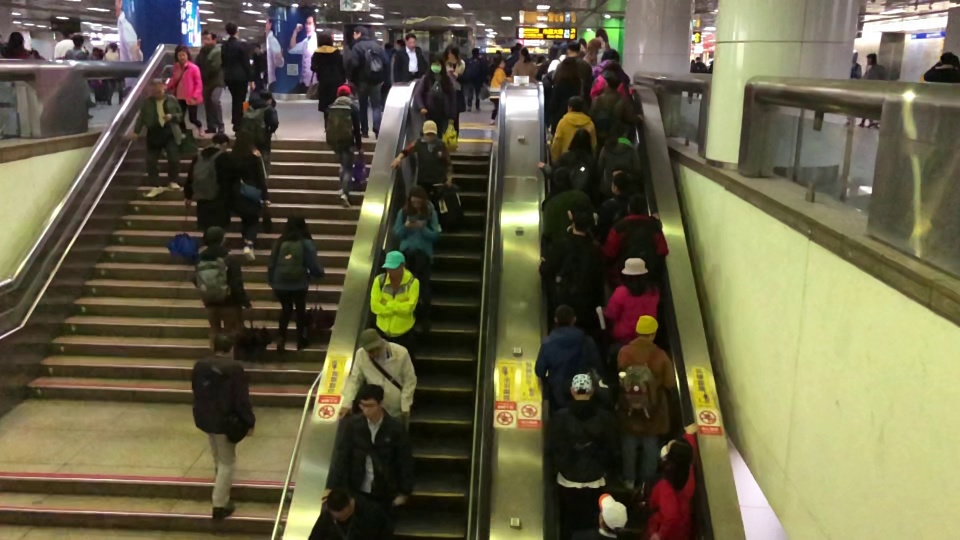person_head: (597, 492, 627, 532), (658, 435, 691, 470), (357, 382, 385, 420), (323, 485, 354, 517), (566, 372, 596, 402), (622, 256, 649, 289), (358, 327, 385, 358), (380, 249, 406, 281), (634, 313, 660, 340), (550, 166, 574, 194), (566, 127, 591, 152), (552, 303, 576, 328), (610, 172, 632, 198), (212, 331, 233, 358), (569, 211, 591, 234), (610, 121, 637, 139), (283, 211, 306, 232), (408, 184, 426, 210), (204, 225, 225, 247), (627, 193, 647, 215), (565, 93, 586, 113), (429, 51, 446, 75), (210, 130, 229, 150), (239, 131, 256, 153), (558, 58, 577, 77), (421, 119, 438, 140), (601, 48, 622, 64), (148, 77, 165, 96), (174, 44, 191, 62), (604, 72, 621, 90), (351, 25, 368, 42), (259, 87, 275, 104), (938, 51, 954, 67), (8, 31, 23, 48), (200, 30, 216, 45), (318, 31, 334, 46), (224, 21, 238, 38), (585, 38, 602, 52), (864, 51, 878, 68), (335, 83, 350, 98), (72, 33, 84, 50), (605, 63, 622, 75), (446, 45, 459, 60), (493, 55, 506, 68), (62, 25, 74, 39), (405, 33, 416, 48), (519, 46, 529, 60), (253, 44, 262, 55), (470, 46, 479, 57), (396, 38, 404, 50), (853, 49, 858, 62), (109, 42, 117, 49), (562, 46, 565, 54), (696, 56, 700, 62)
person_vbox: (191, 331, 257, 519), (319, 383, 415, 508), (616, 313, 678, 493), (549, 372, 617, 525), (265, 210, 325, 357), (338, 327, 417, 431), (192, 223, 253, 352), (389, 119, 455, 233), (533, 304, 605, 407), (393, 185, 441, 336), (537, 209, 606, 314), (126, 77, 184, 199), (649, 422, 702, 539), (602, 255, 661, 353), (600, 192, 669, 273), (182, 130, 233, 233), (233, 131, 272, 262), (368, 249, 421, 343), (306, 484, 392, 540), (593, 170, 661, 240), (325, 84, 363, 209), (350, 25, 389, 139), (542, 165, 595, 247), (536, 127, 600, 194), (161, 45, 206, 139), (241, 88, 281, 187), (588, 72, 644, 142), (413, 51, 457, 136), (597, 120, 644, 195), (309, 30, 344, 130), (220, 22, 253, 126), (550, 92, 598, 162), (194, 29, 225, 134), (66, 35, 94, 120), (552, 57, 587, 121), (857, 50, 884, 131), (445, 44, 467, 114), (395, 33, 428, 79), (488, 55, 509, 125), (592, 63, 632, 98), (466, 46, 486, 114), (845, 50, 861, 128), (923, 50, 959, 83), (53, 25, 86, 59), (104, 42, 120, 106), (510, 46, 537, 81), (3, 30, 29, 60), (695, 55, 708, 98), (547, 43, 566, 71), (583, 38, 604, 63), (253, 44, 265, 75)
